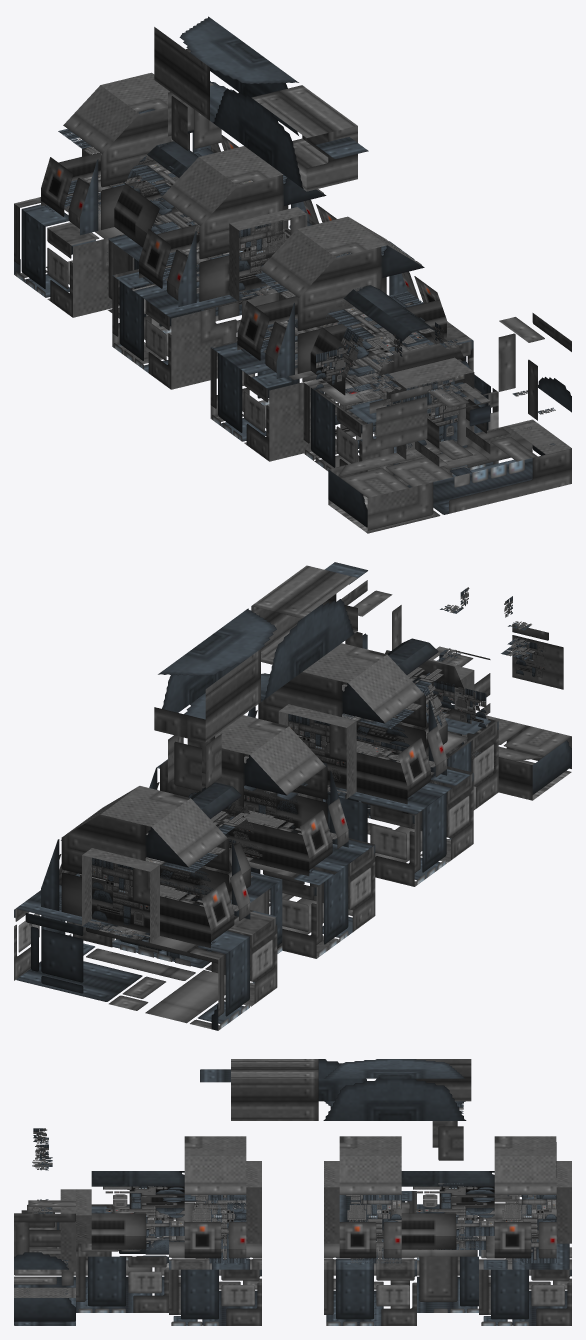
The model's file is steam_turbine.obj.
The picture shows the model from 3 angles, top to bottom: view 1: azimuth 30°, elevation 25°; view 2: azimuth 150°, elevation 25°; view 3: azimuth 270°, elevation 25°; orthographic projection. The views are drawn at different scales.
Parts seen in each view (by area): view 1: base; view 2: base; view 3: base.
Part boxes in pixels (left/top/right/bottom): base: left=14, top=16, right=571, bottom=533; base: left=14, top=562, right=571, bottom=1030; base: left=14, top=1059, right=571, bottom=1325.
Size of the model in its own units: 3 by 3.88 by 9.
